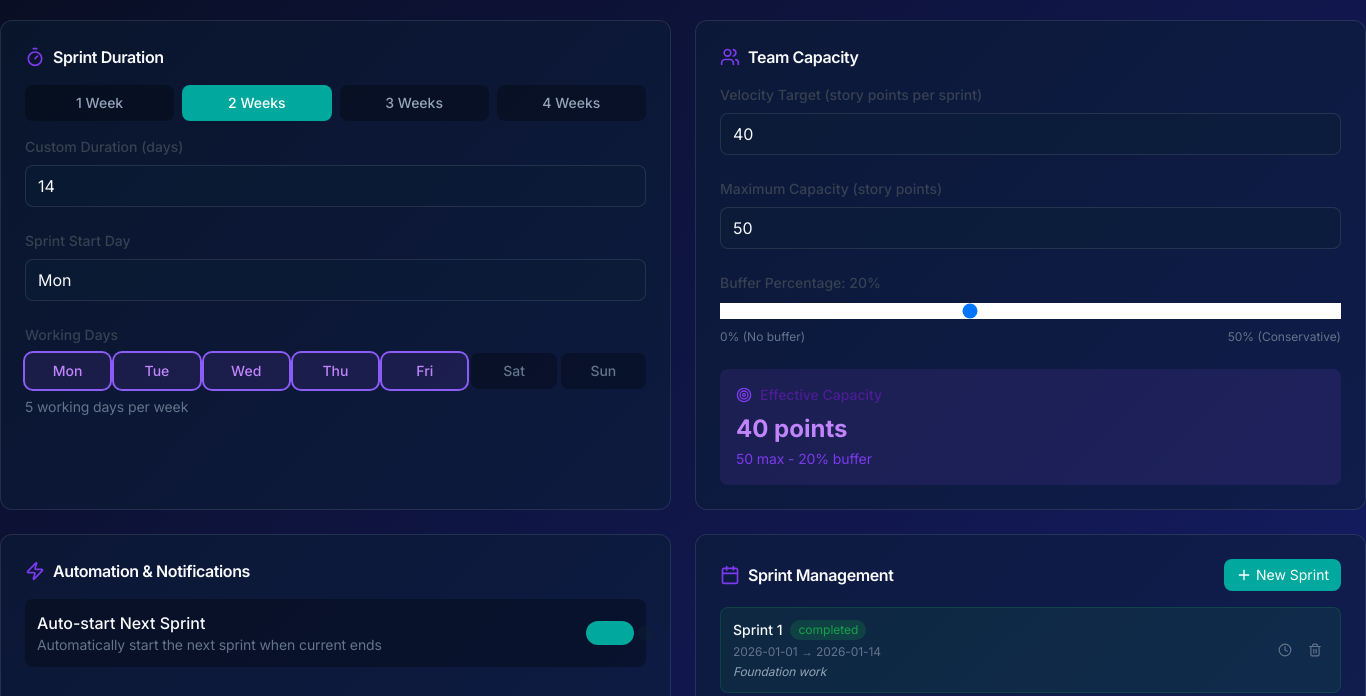
Scenario: SprintSettings — create sprint form › Create Sprint button is disabled when name is empty
The image size is (1366, 696).
Step 1. Click the button "New Sprint" → (1282, 575), box [1224,559,1341,591]
(page scrolled)
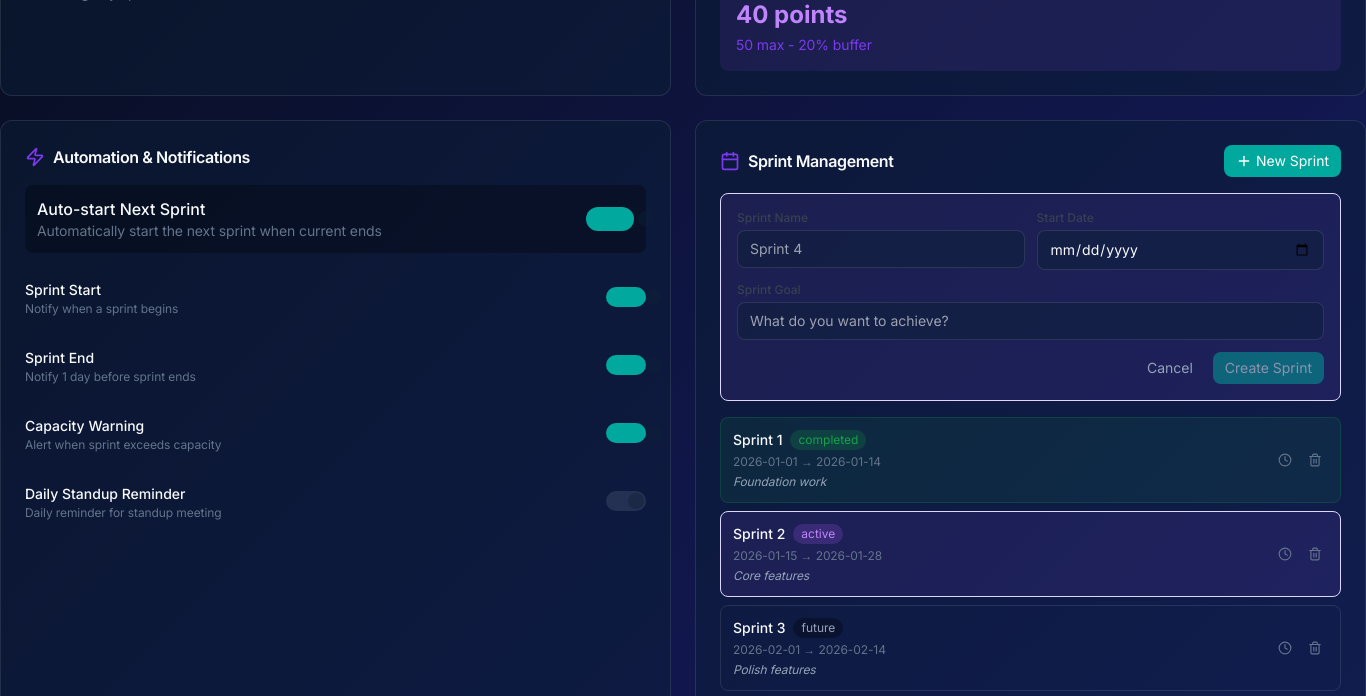
Expected: the button "Create Sprint" is disabled, [1213,352,1324,384]
